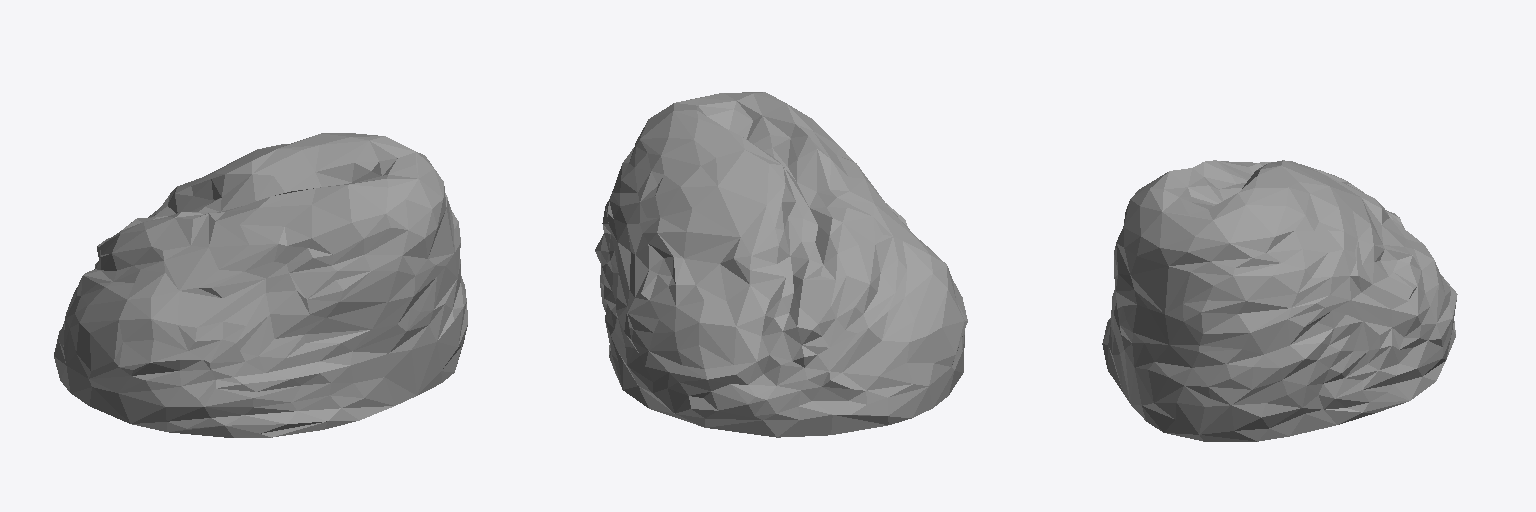
File: Rock1.obj
3 renders of one model, left to right at view 1: azimuth 30°, elevation 25°; view 2: azimuth 150°, elevation 25°; view 3: azimuth 270°, elevation 25°, orthographic.
Visible parts, largest first — view 1: Icosphere.001; view 2: Icosphere.001; view 3: Icosphere.001.
Boxes of the visible parts, x1,y1,x2,y2 form: Icosphere.001: [54, 133, 467, 437]; Icosphere.001: [595, 92, 967, 437]; Icosphere.001: [1102, 160, 1457, 441].
Bounding box in the file's own units: 186 × 109 × 163.